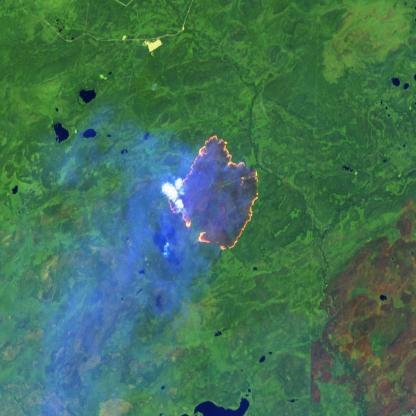fire: (165, 130, 261, 257)
